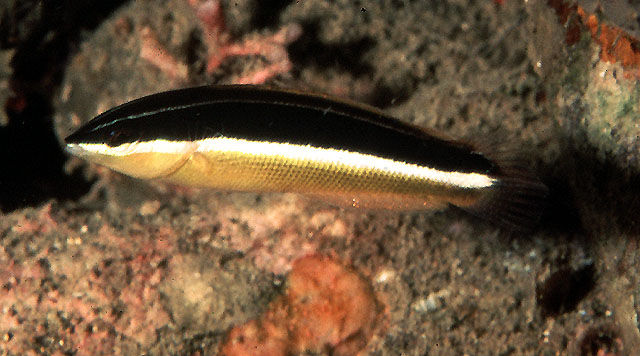fish: (64, 84, 544, 223)
